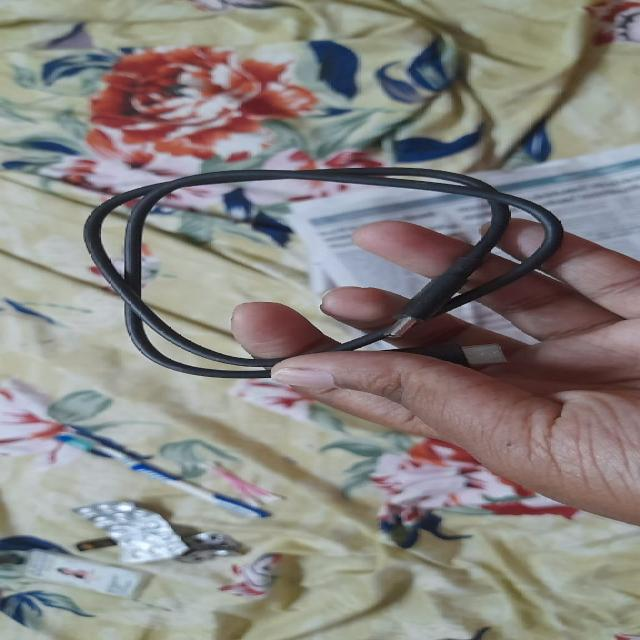Charger - Recyclable: (81, 165, 566, 380)
